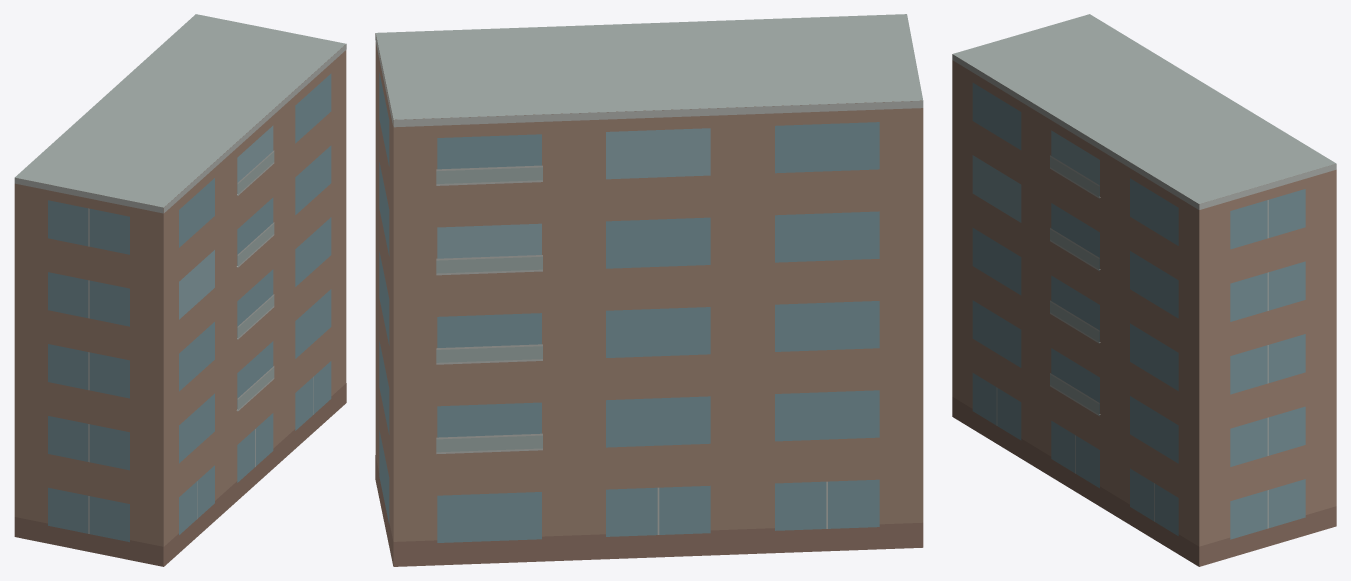
File: survey-upis-32978474.glb
The picture shows the model from 3 angles, left to right: view 1: azimuth 30°, elevation 25°; view 2: azimuth 150°, elevation 25°; view 3: azimuth 270°, elevation 25°; orthographic projection. The views are drawn at different scales.
Visible parts, largest first — view 1: survey-upis-32978474.tmp; view 2: survey-upis-32978474.tmp; view 3: survey-upis-32978474.tmp.
Boxes of the visible parts, x1,y1,x2,y2 form: survey-upis-32978474.tmp: (14, 14, 346, 566); survey-upis-32978474.tmp: (375, 14, 923, 566); survey-upis-32978474.tmp: (952, 14, 1336, 566).
Bounding box in the file's own units: 16.54 × 14.7 × 14.12.
